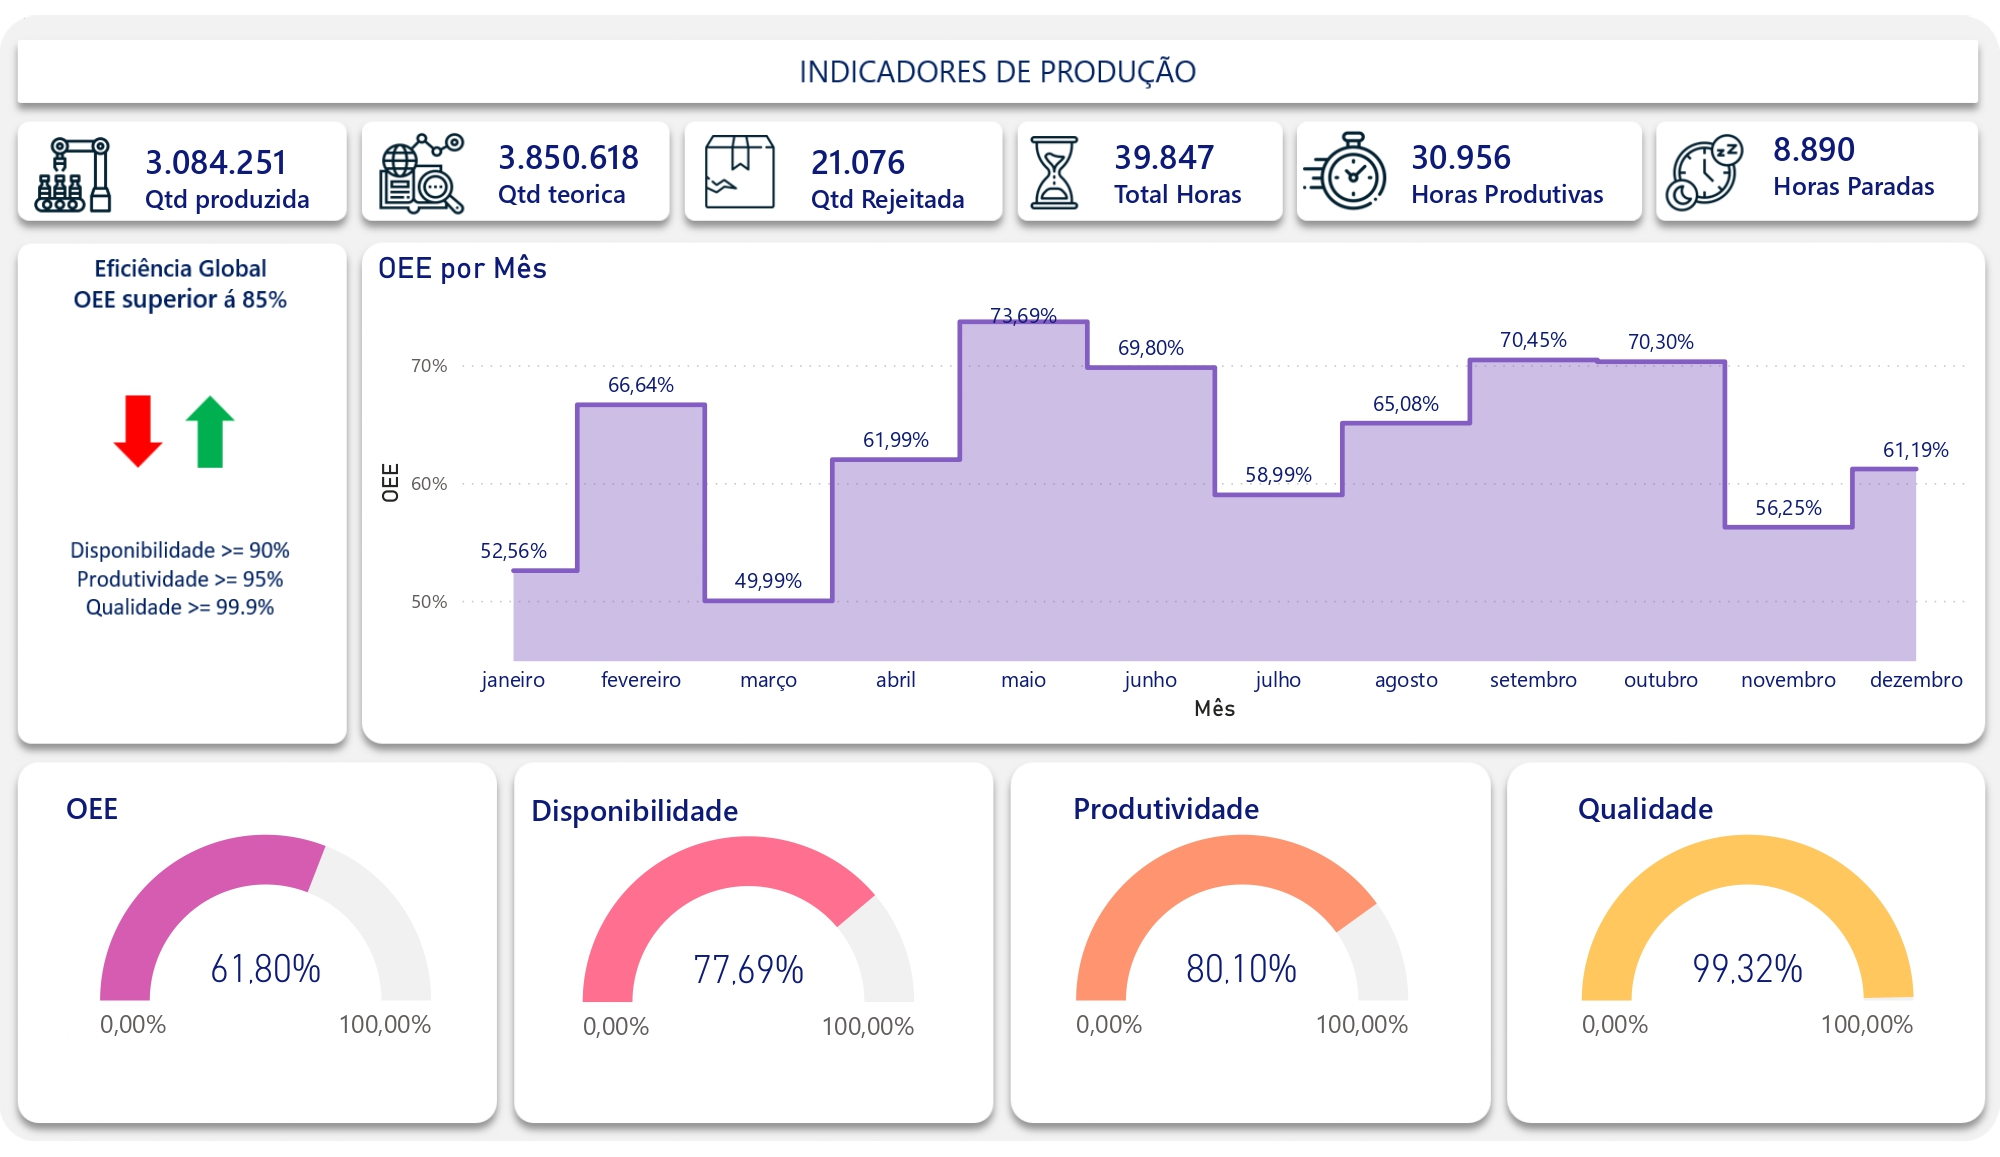

Layout of this report page (visuals, bound fields, positions):
{"tool":"powerbi","page":{"name":"Página 1","canvas":[1280,720],"ordinal":0},"visuals":[{"type":"multiRowCard","fields":{"Values":["Novas Medidas.Qtd produzida"]},"box":[88,72.7,139,62.5],"z":0},{"type":"multiRowCard","fields":{"Values":["Novas Medidas.Qtd teorica"]},"box":[313.6,70.1,121.1,67.6],"z":1000},{"type":"multiRowCard","fields":{"Values":["Novas Medidas.Total Horas"]},"box":[707.6,70.1,116,67.6],"z":2000},{"type":"multiRowCard","fields":{"Values":["Novas Medidas.Horas Produtivas"]},"box":[897.5,70.1,141.5,63.7],"z":3000},{"type":"multiRowCard","fields":{"Values":["Novas Medidas.Horas Paradas"]},"box":[1129.6,65,136.4,68.8],"z":4000},{"type":"multiRowCard","fields":{"Values":["Novas Medidas.Qtd Rejeitada"]},"box":[513.8,72.7,126.2,62.5],"z":5000},{"type":"gauge","fields":{"Y":["Novas Medidas.Disponibilidade"]},"box":[335.3,494.7,288.1,172.1],"z":5001},{"type":"gauge","fields":{"Y":["Novas Medidas.Produtividade"]},"box":[682.1,494.4,225.7,172.1],"z":5002},{"type":"gauge","fields":{"Y":["Novas Medidas.Qualidade"]},"box":[1004.6,494.4,226.9,172.1],"z":5003},{"type":"gauge","fields":{"Y":["Novas Medidas.OEE"]},"box":[37,494.4,266.5,172.1],"z":5004},{"type":"areaChart","fields":{"Y":["Novas Medidas.OEE"],"Category":["BaseProdução.Data Inicio.Variation.Hierarquia de datas.Mês"]},"box":[237.1,150.4,1028.8,306],"z":5005}]}

Visuals, with their boxes in screenshot pixels (x1, y1, x2, y2), scaled from the page's 1280x720 canvas onto the 2000x1157 screenshot:
multiRowCard - Novas Medidas.Qtd produzida: 138,117,355,217
multiRowCard - Novas Medidas.Qtd teorica: 490,113,679,221
multiRowCard - Novas Medidas.Total Horas: 1106,113,1287,221
multiRowCard - Novas Medidas.Horas Produtivas: 1402,113,1623,215
multiRowCard - Novas Medidas.Horas Paradas: 1765,104,1978,215
multiRowCard - Novas Medidas.Qtd Rejeitada: 803,117,1000,217
gauge - Novas Medidas.Disponibilidade: 524,795,974,1072
gauge - Novas Medidas.Produtividade: 1066,794,1418,1071
gauge - Novas Medidas.Qualidade: 1570,794,1924,1071
gauge - Novas Medidas.OEE: 58,794,474,1071
areaChart - Novas Medidas.OEE x BaseProdução.Data Inicio.Variation.Hierarquia de datas.Mês: 370,242,1978,733
